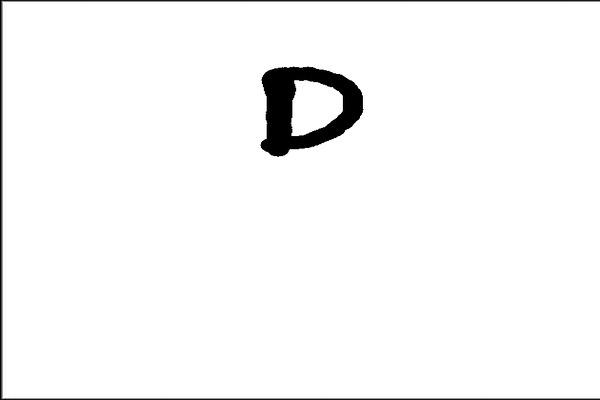D: (253, 58, 369, 159)
